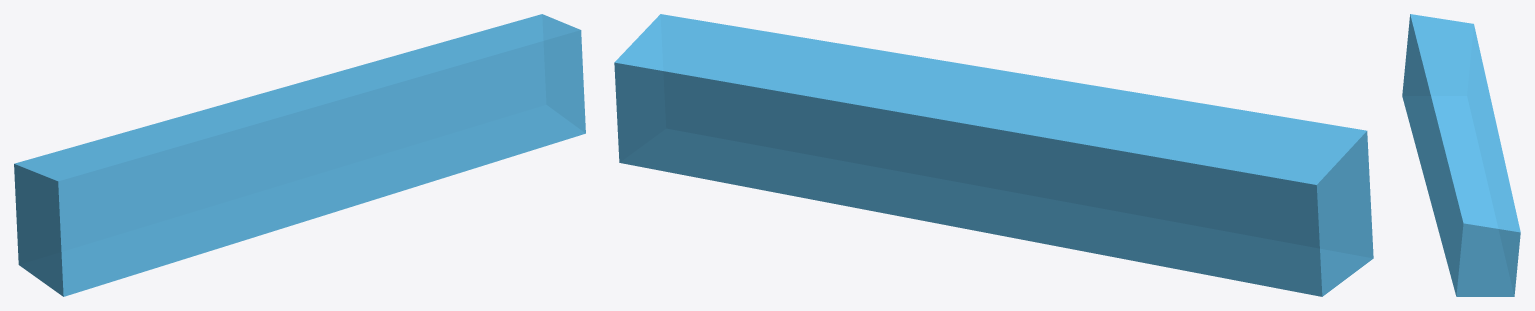
Rendered from Event_420094457_HErechit_27.fbx.
3 views of the same model, side by side, from view 1: azimuth 30°, elevation 25°; view 2: azimuth 150°, elevation 25°; view 3: azimuth 270°, elevation 25° (orthographic). The views are drawn at different scales.
Parts seen in each view (by area): view 1: Model; view 2: Model; view 3: Model.
Part boxes in pixels (x1,y1,x2,y2): Model: (14,14,585,296); Model: (614,14,1373,296); Model: (1402,14,1520,296).
Bounding box in the file's own units: 1.18 × 0.2247 × 0.2938.
